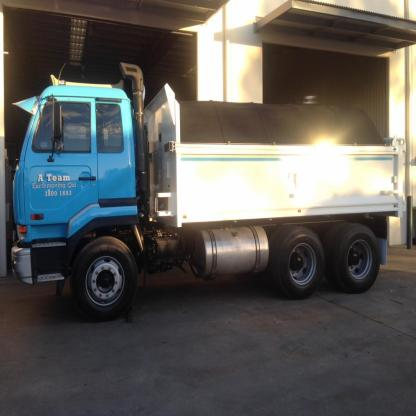dump_truck: (9, 68, 401, 327)
